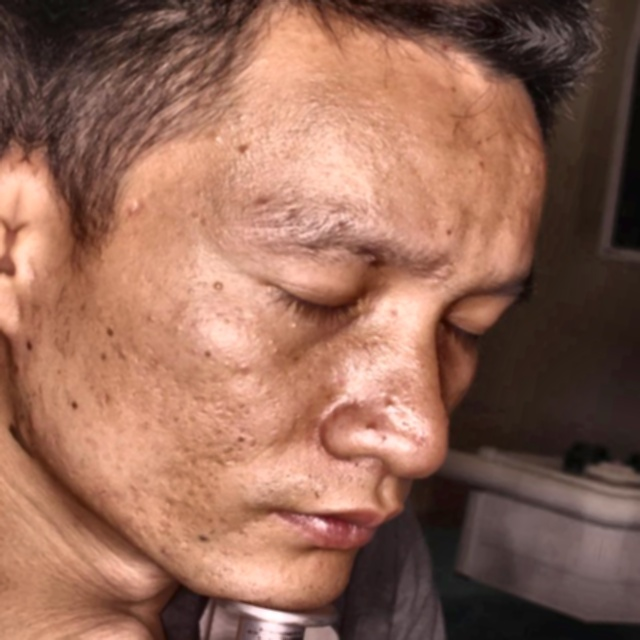comedone: (116, 192, 161, 232)
